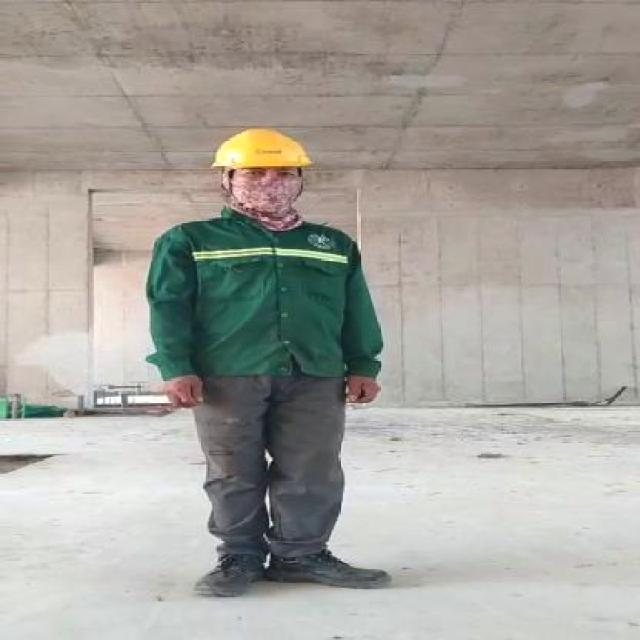face_mask: (226, 169, 302, 213)
hand_noglove: (155, 372, 208, 416), (338, 366, 384, 408)
head_helmet: (205, 126, 322, 174)
person: (141, 118, 399, 604)
shoes: (267, 546, 396, 596), (185, 545, 266, 603)
